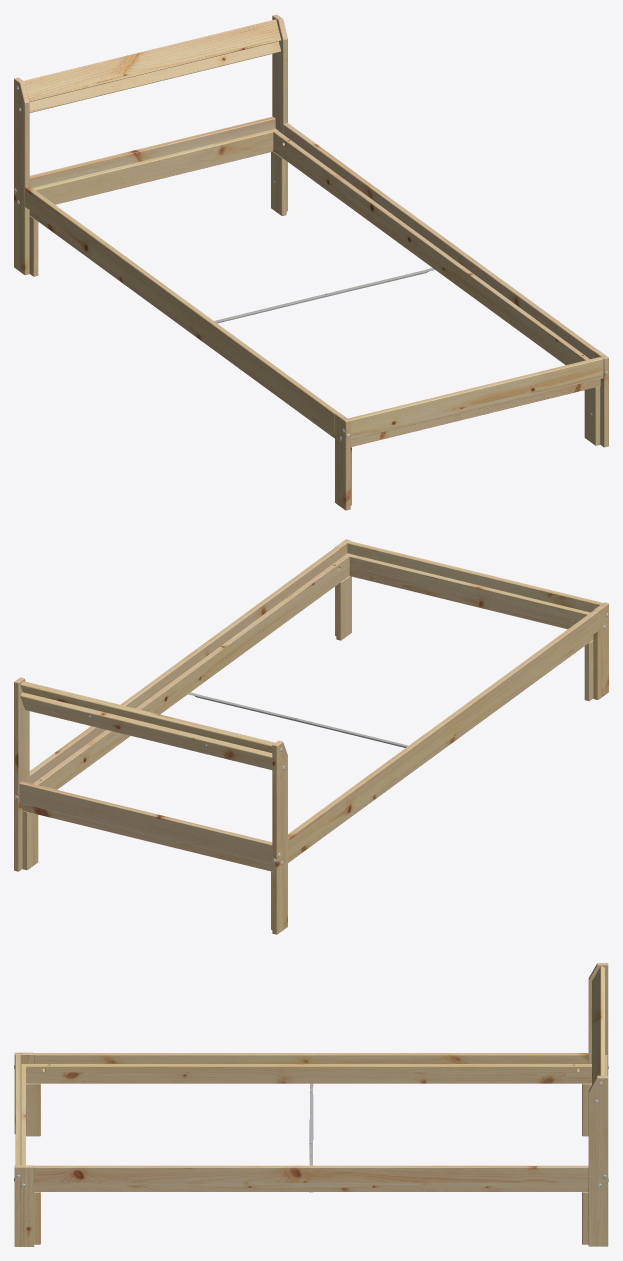
The model's file is neiden_rama_ozka_40395245.glb.
The picture shows the model from 3 angles, top to bottom: view 1: azimuth 30°, elevation 25°; view 2: azimuth 150°, elevation 25°; view 3: azimuth 270°, elevation 25°; orthographic projection. The views are drawn at different scales.
Parts seen in each view (by area): view 1: neiden_rama_ozka_40395245; view 2: neiden_rama_ozka_40395245; view 3: neiden_rama_ozka_40395245.
Part boxes in pixels (bbox=[...]): neiden_rama_ozka_40395245: bbox=[14, 14, 608, 510]; neiden_rama_ozka_40395245: bbox=[14, 539, 608, 934]; neiden_rama_ozka_40395245: bbox=[14, 963, 608, 1246].
Bounding box in the file's own units: 0.9448 × 0.645 × 2.06.
1 material, 1 textured.
